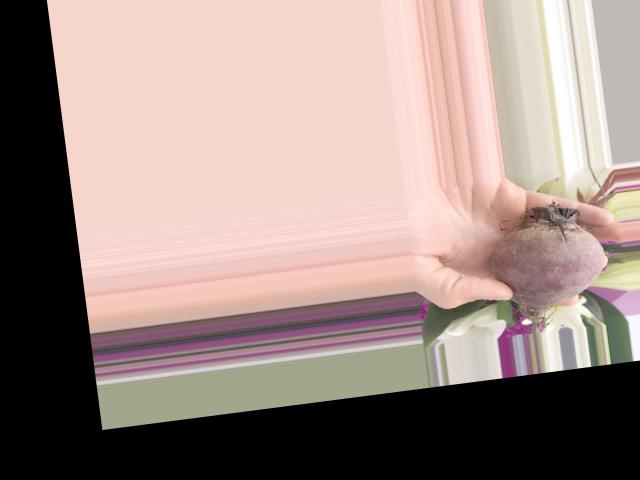beet: (484, 194, 614, 337)
